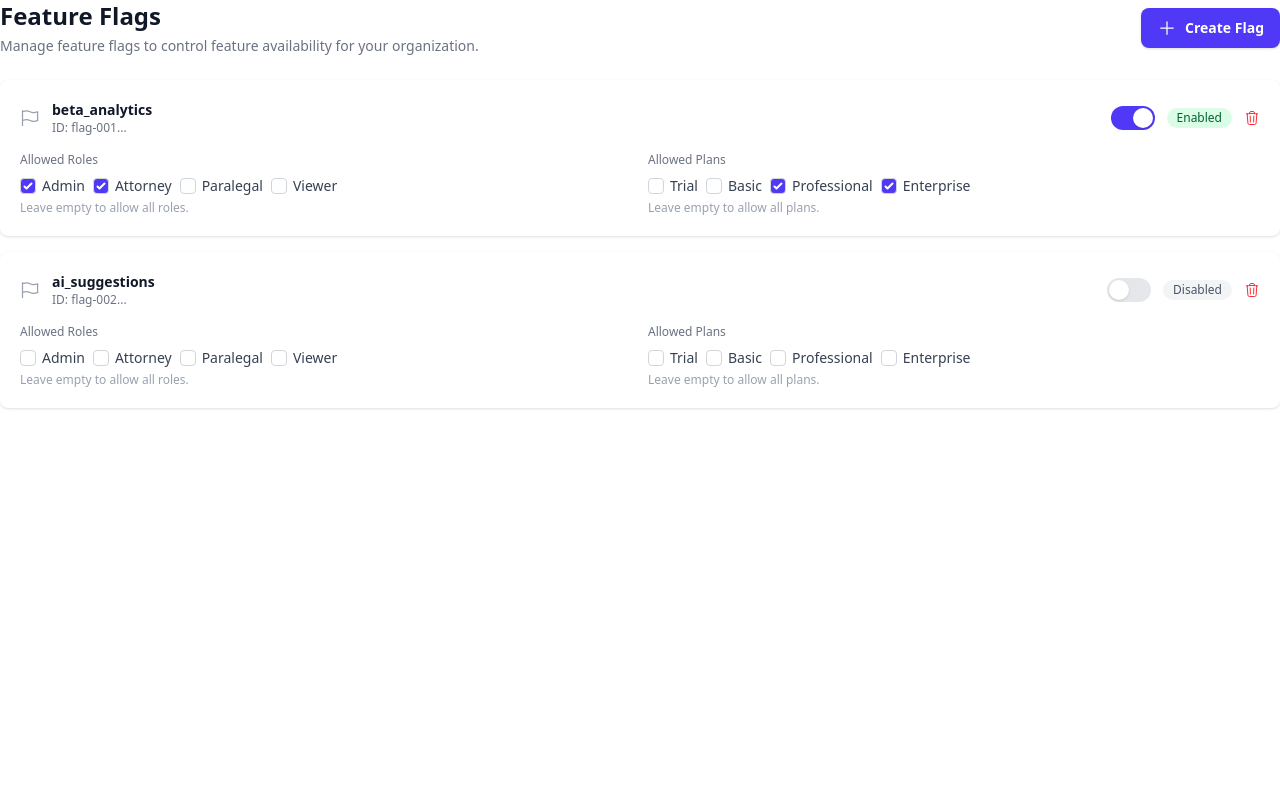
Test: FeatureFlagsView › opens create modal on button click
What coordinates should you click on to do the following:
click the button "Create Flag"
I would click on:
 (1210, 28)
Its box is [1141,8,1279,48].
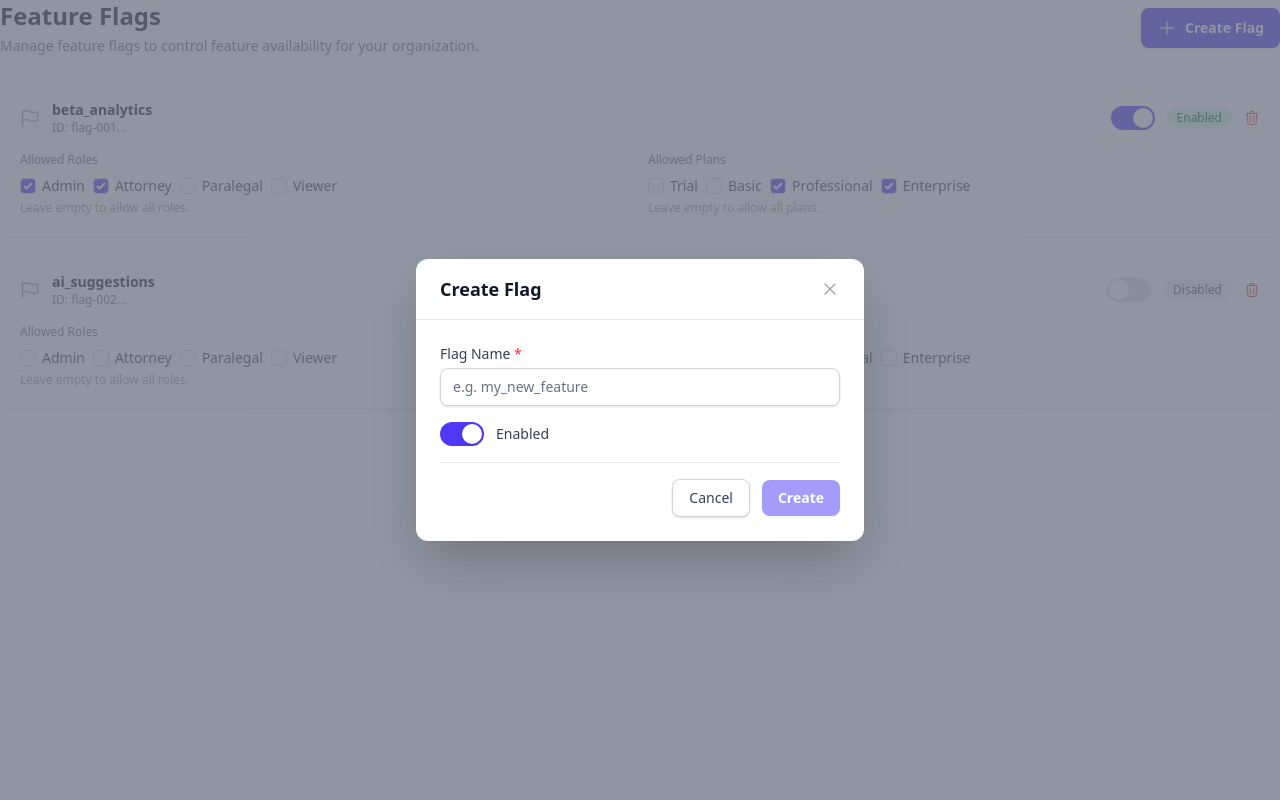
expect the field with id "flag-name" is shown: met, box [440,368,840,406]
